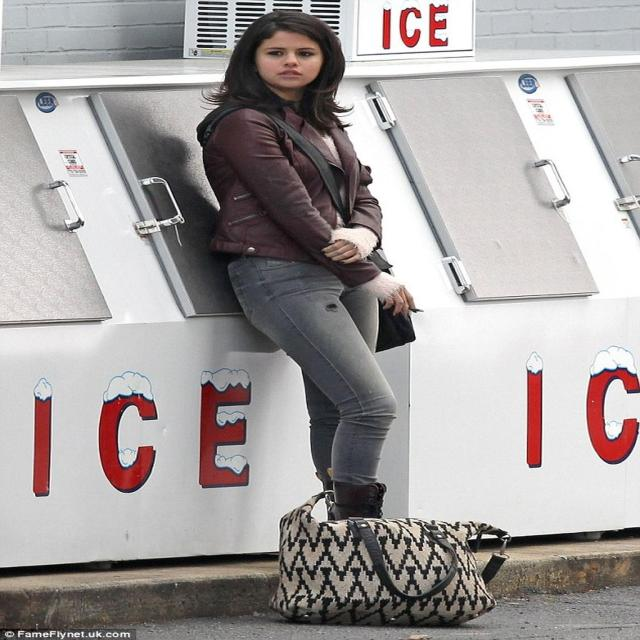smoking: (214, 15, 428, 326)
